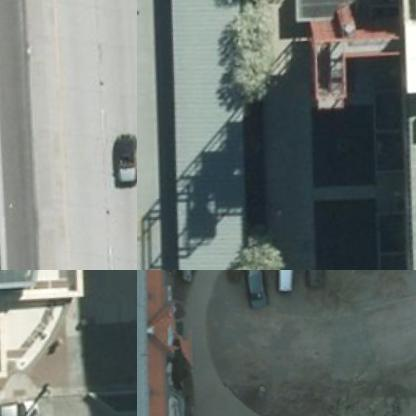car: (111, 128, 136, 188), (235, 270, 272, 309), (0, 394, 42, 415), (271, 270, 300, 295), (299, 270, 328, 291)
